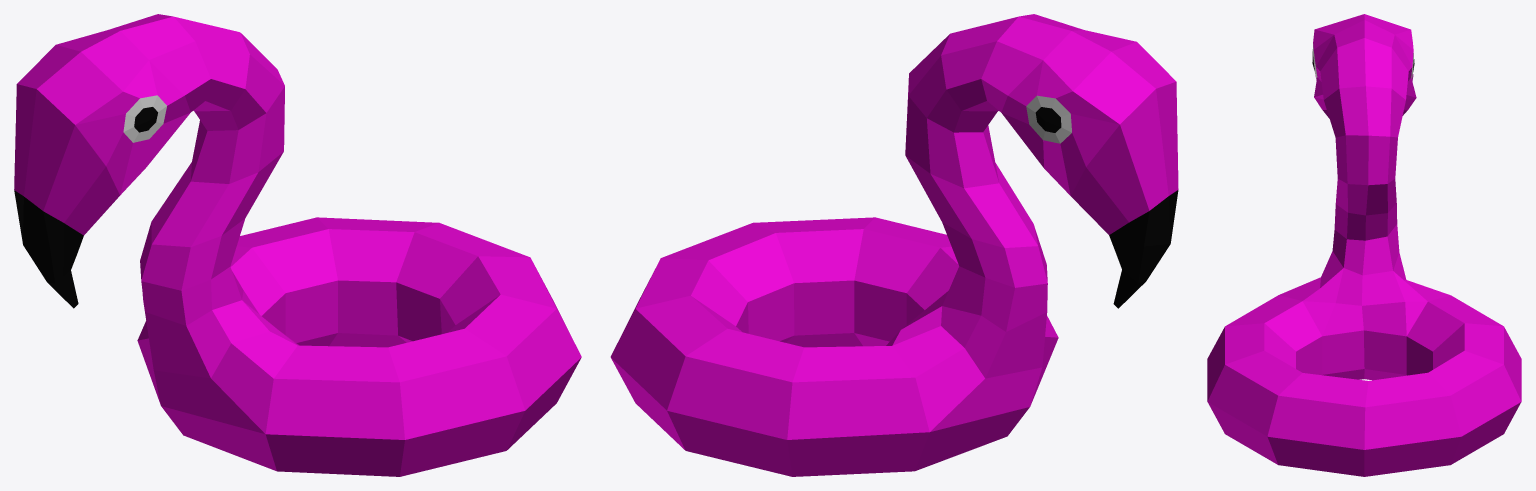
Rendered from VehiculoFlamenco.fbx.
3 renders of one model, left to right at view 1: azimuth 30°, elevation 25°; view 2: azimuth 150°, elevation 25°; view 3: azimuth 270°, elevation 25°, orthographic. The views are drawn at different scales.
Visible parts, largest first — view 1: Vehiculo1; view 2: Vehiculo1; view 3: Vehiculo1.
Part boxes in pixels (x1,y1,x2,y2): Vehiculo1: [14, 14, 581, 476]; Vehiculo1: [610, 14, 1178, 476]; Vehiculo1: [1207, 14, 1521, 476].
Size of the model in its own units: 450 by 352 by 314.
